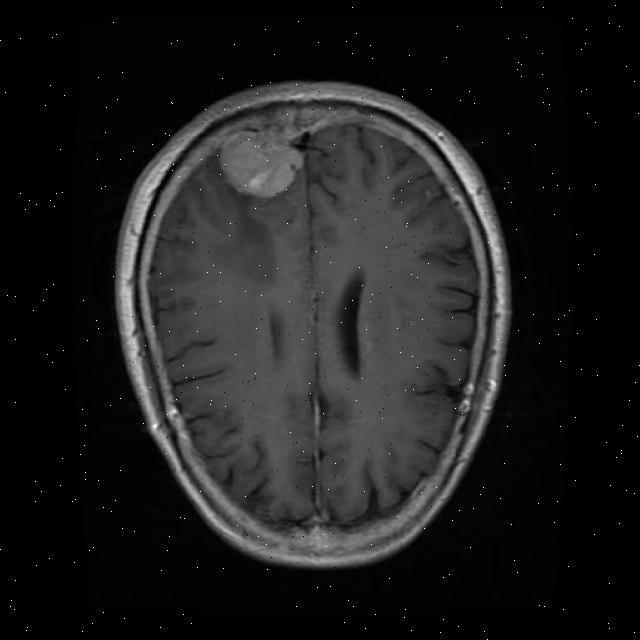Meningioma: (220, 125, 315, 198)
